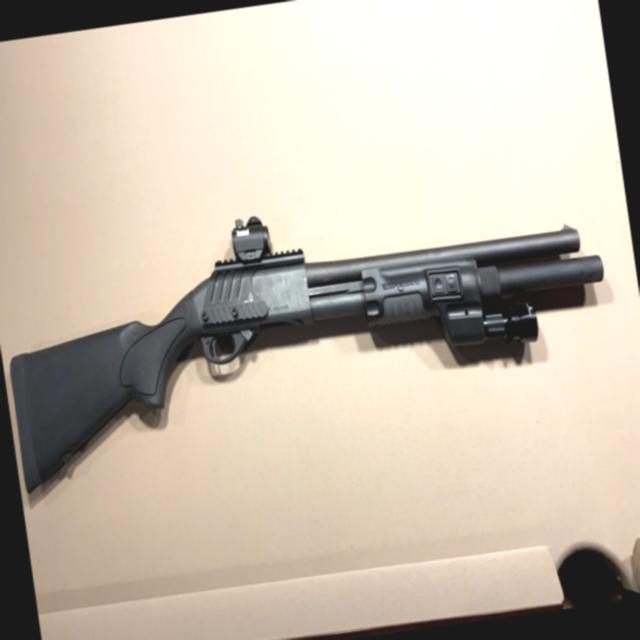shotgun: (0, 188, 627, 517)
